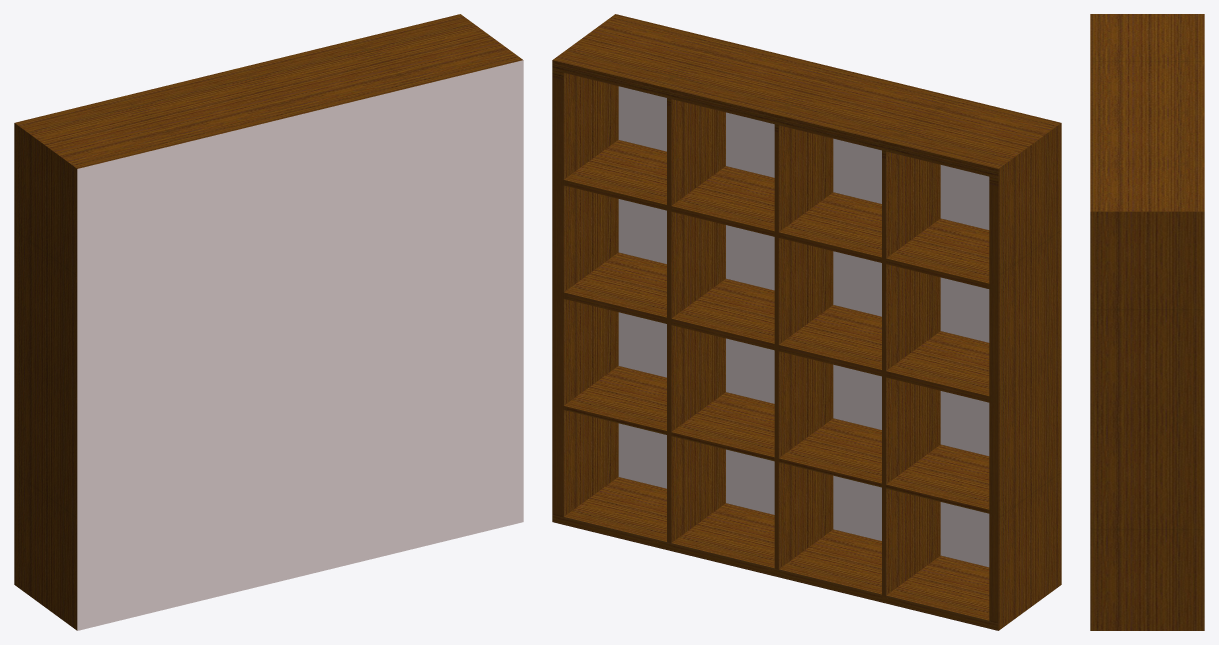
Rendered from bookshelf.fbx.
3 renders of one model, left to right at view 1: azimuth 30°, elevation 25°; view 2: azimuth 150°, elevation 25°; view 3: azimuth 270°, elevation 25°, orthographic. The views are drawn at different scales.
Visible parts, largest first — view 1: pCube23; view 2: pCube23; view 3: pCube23.
Boxes of the visible parts, x1,y1,x2,y2 form: pCube23: (14,14,523,630); pCube23: (552,14,1061,630); pCube23: (1090,14,1204,630).
Size of the model in its own units: 5801 by 5741 by 1419.
Materials: 1 (1 with a texture image).
